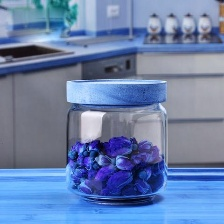bottle: (61, 91, 172, 210)
